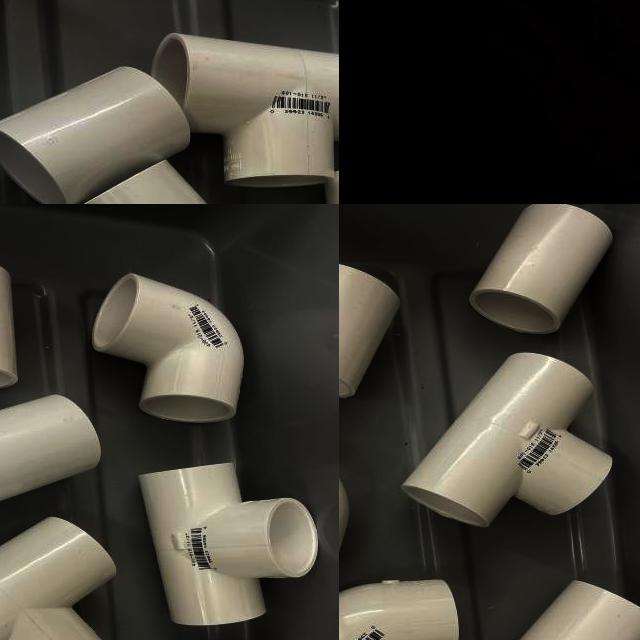L Joint: (92, 274, 246, 426), (339, 580, 460, 640)
T Joint: (401, 352, 614, 531), (135, 464, 316, 629), (150, 34, 339, 186), (0, 517, 118, 640), (516, 581, 640, 640)
